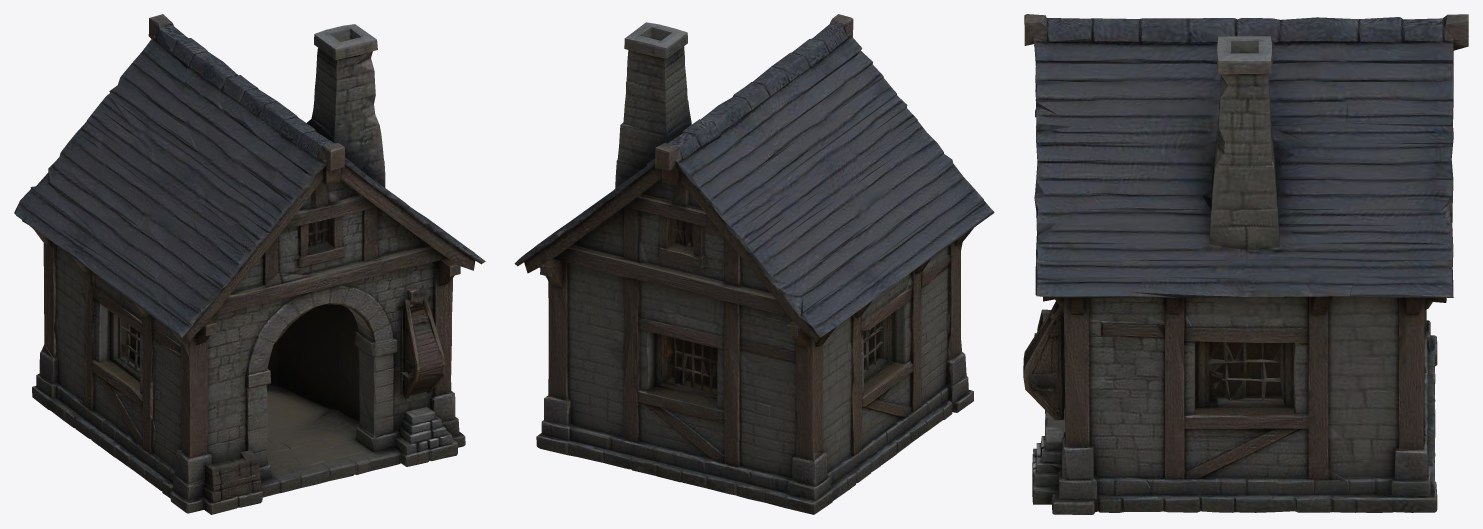
The model's file is bld_ws_forge_a_LOD0.glb.
The picture shows the model from 3 angles, left to right: view 1: azimuth 30°, elevation 25°; view 2: azimuth 150°, elevation 25°; view 3: azimuth 270°, elevation 25°; orthographic projection. The views are drawn at different scales.
Visible parts, largest first — view 1: tripo_mesh_264c8039-6608-4f28-afc2-1594e309398a; view 2: tripo_mesh_264c8039-6608-4f28-afc2-1594e309398a; view 3: tripo_mesh_264c8039-6608-4f28-afc2-1594e309398a.
Part boxes in pixels (x1,y1,x2,y2): tripo_mesh_264c8039-6608-4f28-afc2-1594e309398a: [14, 14, 485, 514]; tripo_mesh_264c8039-6608-4f28-afc2-1594e309398a: [514, 14, 994, 514]; tripo_mesh_264c8039-6608-4f28-afc2-1594e309398a: [1023, 14, 1468, 514].
Bounding box in the file's own units: 6.15 × 7 × 6.36.
Materials: 1 (1 with a texture image).
